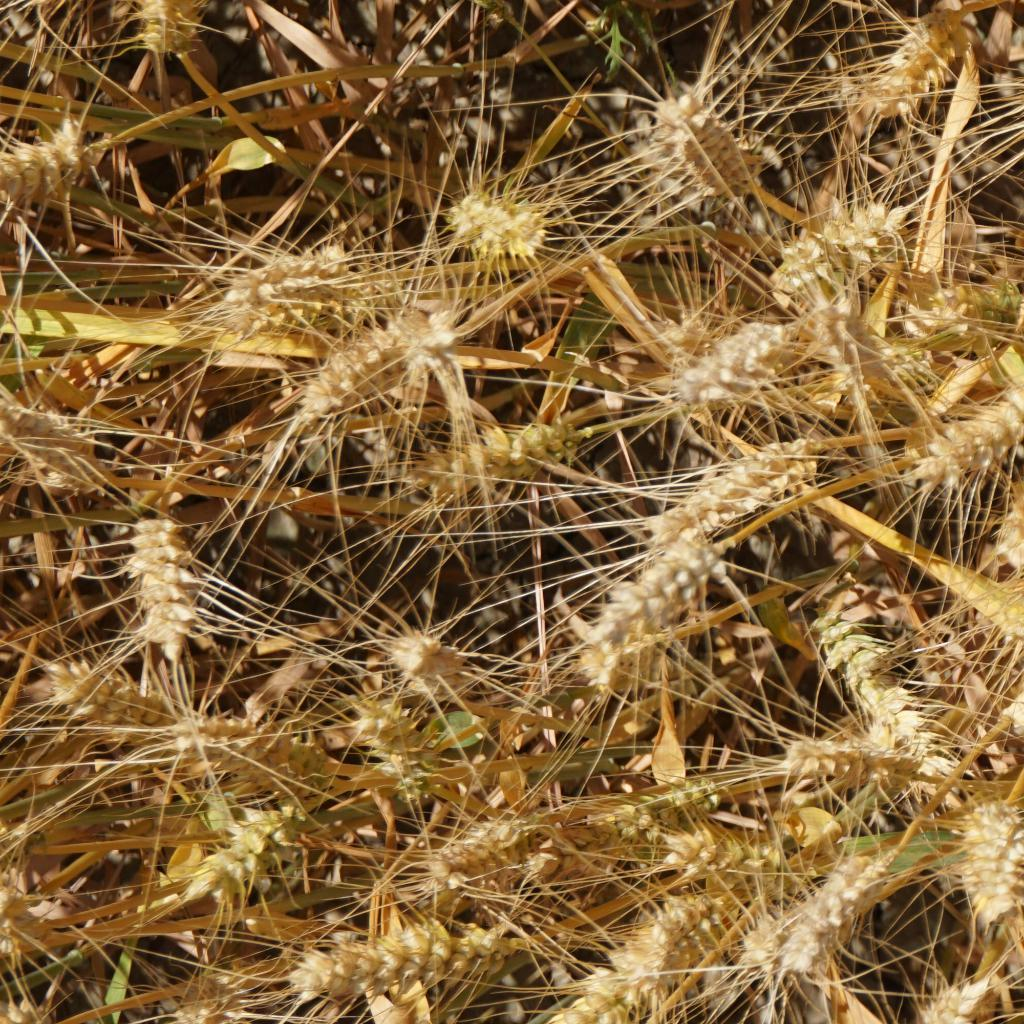0-0: (734, 841, 921, 987), (813, 608, 945, 756), (828, 2, 965, 132), (285, 309, 446, 413), (110, 500, 218, 647), (642, 444, 815, 535), (425, 395, 565, 496), (37, 635, 179, 734), (441, 183, 574, 283), (661, 299, 793, 399), (0, 399, 120, 509), (763, 198, 896, 293), (230, 228, 374, 311), (299, 917, 453, 994), (0, 107, 106, 218), (582, 547, 720, 630), (413, 805, 551, 888), (793, 302, 919, 389), (911, 391, 1024, 486), (190, 797, 301, 893), (673, 813, 809, 891), (186, 700, 316, 774), (659, 92, 750, 190), (598, 909, 712, 984), (336, 675, 435, 756), (963, 793, 1024, 915), (905, 285, 994, 364), (923, 954, 1011, 1024), (381, 622, 470, 689), (783, 726, 876, 789), (543, 980, 634, 1024), (134, 0, 198, 53), (986, 474, 1024, 553)
